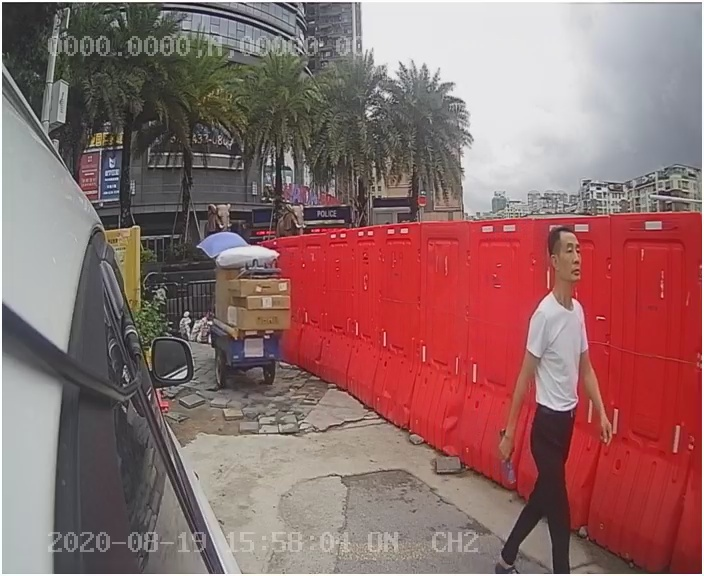person: (489, 221, 636, 553)
